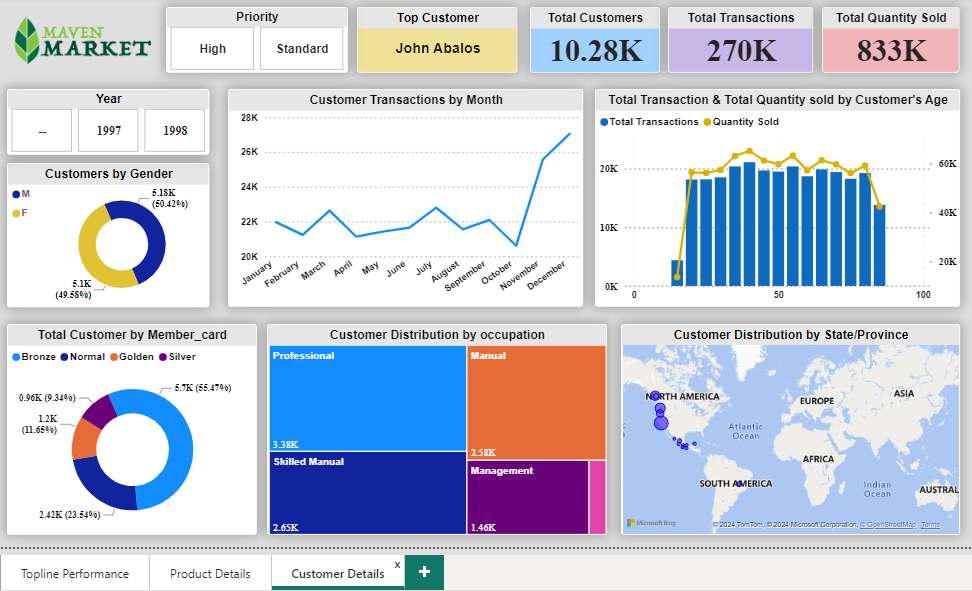

The dashboard page shown, as its layout file describes it:
{"tool":"powerbi","page":{"name":"Customer Details","canvas":[1280,720],"ordinal":2},"visuals":[{"type":"image","box":[15.8,13,197.3,86.4],"z":0},{"type":"map","title":"Customer Distribution by State/Province","fields":{"Category":["Customers.customer_state_province"],"Size":["Customers.customer_id"]},"box":[819.4,427.7,443.5,276.5],"z":1000},{"type":"donutChart","title":"Customers by Gender","fields":{"Y":["Customers.customer_id"],"Category":["Customers.gender"]},"box":[15.8,217.4,265,188.6],"z":2000},{"type":"lineClusteredColumnComboChart","title":"Total Transaction & Total Quantity sold by Customer''s Age","fields":{"Category":["Customers.Current Age (bins)"],"Y":["Transaction_Data.Total Transactions"],"Y2":["Transaction_Data.Quantity Sold"]},"box":[784.8,121,478.1,285.1],"z":3000},{"type":"treemap","title":"Customer Distribution by occupation","fields":{"Group":["Customers.occupation"],"Values":["Customers.customer_id"]},"box":[355.7,427.7,445,276.5],"z":4000},{"type":"card","title":"Top Customer","fields":{"Values":["Customers.full_name"]},"box":[473.8,13,210.2,86.4],"z":5000},{"type":"card","title":"Total Customers","fields":{"Values":["Customers.customer_id"]},"box":[699.8,13,169.9,86.4],"z":6000},{"type":"advancedSlicerVisual","fields":{"Values":["Calendar.Year"]},"box":[15.8,121,265,86.4],"z":7000},{"type":"lineChart","title":"Customer Transactions by Month","fields":{"Y":["Transaction_Data.customer_id"],"Category":["Calendar.date.Variation.Date Hierarchy.Month"]},"box":[305.3,121,465.1,285.1],"z":8000},{"type":"donutChart","title":"Total Customer by Member_card","fields":{"Category":["Customers.member_card"],"Y":["Customers.customer_id"]},"box":[15.8,427.7,326.9,276.5],"z":9000},{"type":"advancedSlicerVisual","fields":{"Values":["Customers.Priority"]},"box":[223.2,13,237.6,86.4],"z":10000},{"type":"card","title":"Total Transactions","fields":{"Values":["Transaction_Data.Total Transactions"]},"box":[881.3,13,190.1,86.4],"z":11000},{"type":"card","title":"Total Quantity Sold","fields":{"Values":["Transaction_Data.Quantity Sold"]},"box":[1082.9,13,180,86.4],"z":12000}]}

Visuals, with their boxes on the page's 1280x720 design canvas (x1, y1, x2, y2). These are canvas units, not pixel positions in the 972x591 screenshot, which may show the page scaled, cropped or inside an application window:
image: 16 13 213 99
"Customer Distribution by State/Province" map: 819 428 1263 704
"Customers by Gender" donutChart: 16 217 281 406
"Total Transaction & Total Quantity sold by Customer''s Age" lineClusteredColumnComboChart: 785 121 1263 406
"Customer Distribution by occupation" treemap: 356 428 801 704
"Top Customer" card: 474 13 684 99
"Total Customers" card: 700 13 870 99
advancedSlicerVisual - Calendar.Year: 16 121 281 207
"Customer Transactions by Month" lineChart: 305 121 770 406
"Total Customer by Member_card" donutChart: 16 428 343 704
advancedSlicerVisual - Customers.Priority: 223 13 461 99
"Total Transactions" card: 881 13 1071 99
"Total Quantity Sold" card: 1083 13 1263 99
